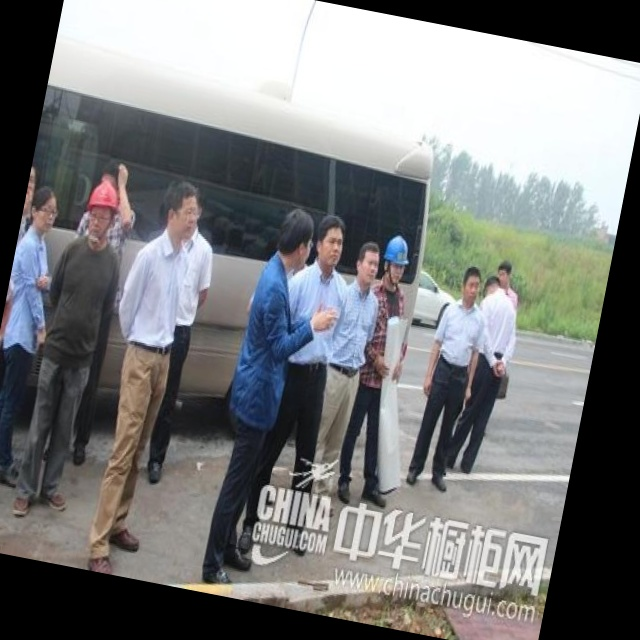Con_Casco: (81, 179, 123, 247), (379, 233, 413, 288)
Sin_Casco_Mascarrilla: (313, 211, 350, 269), (352, 239, 384, 290)
